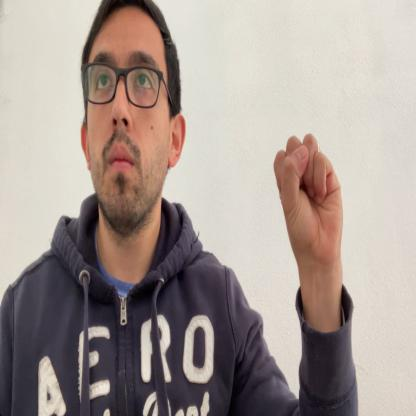S: (274, 134, 342, 271)
